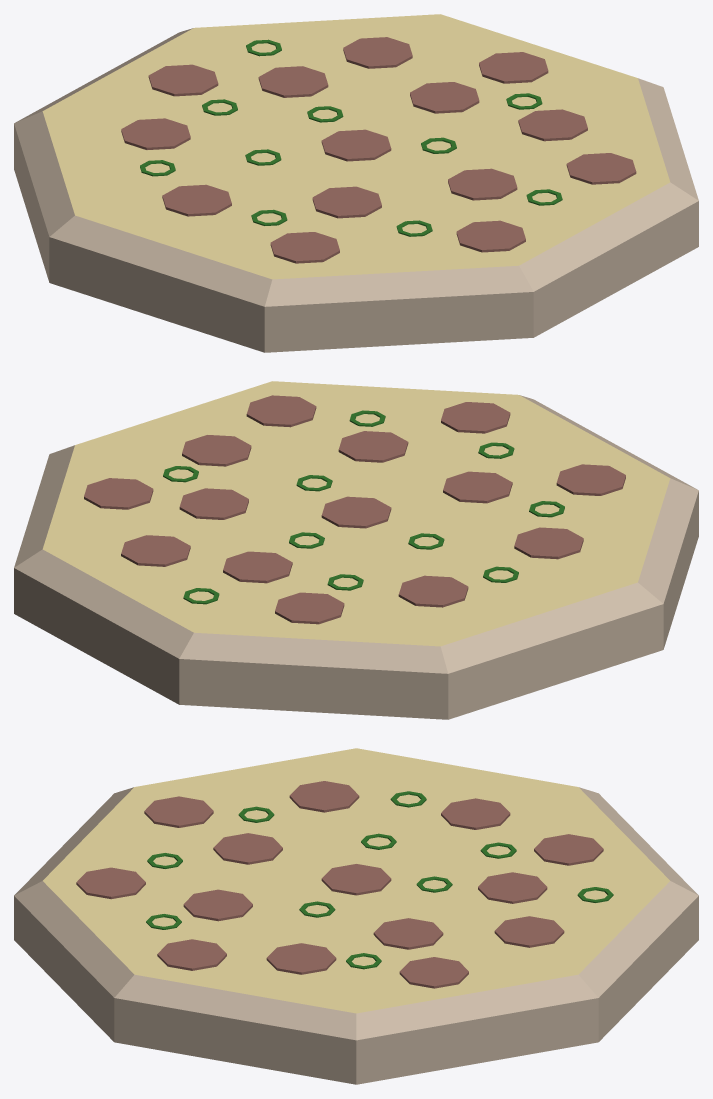
Rendered from Pizza (1).fbx.
The picture shows the model from 3 angles, top to bottom: view 1: azimuth 30°, elevation 25°; view 2: azimuth 150°, elevation 25°; view 3: azimuth 270°, elevation 25°; orthographic projection. The views are drawn at different scales.
Visible parts, largest first — view 1: Cylinder; view 2: Cylinder; view 3: Cylinder.
Boxes of the visible parts, x1,y1,x2,y2 form: Cylinder: [14, 14, 698, 352]; Cylinder: [14, 381, 698, 719]; Cylinder: [14, 748, 698, 1084].
Bounding box in the file's own units: 42.07 × 4.17 × 42.07.
